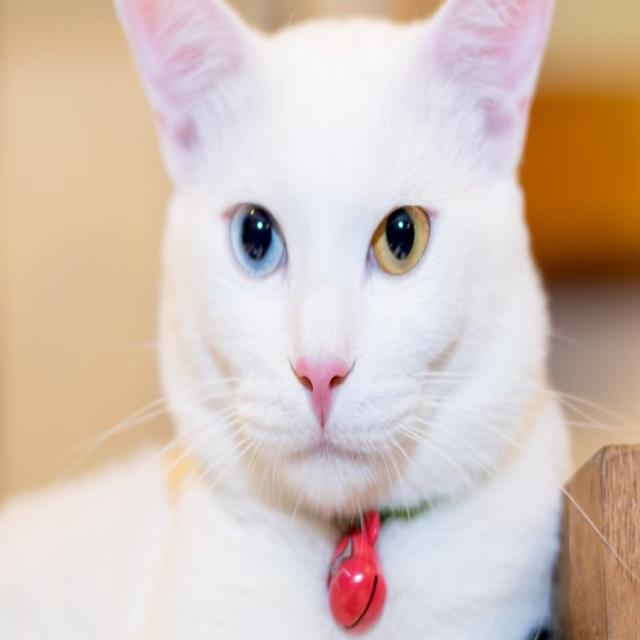Khao Manee: (0, 0, 574, 640)
